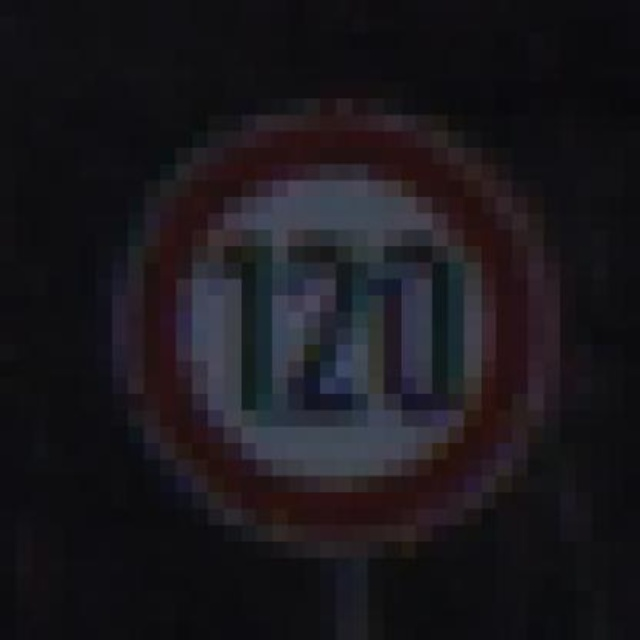Tốc độ tối đa cho phép 120km/h: (138, 120, 541, 541)
